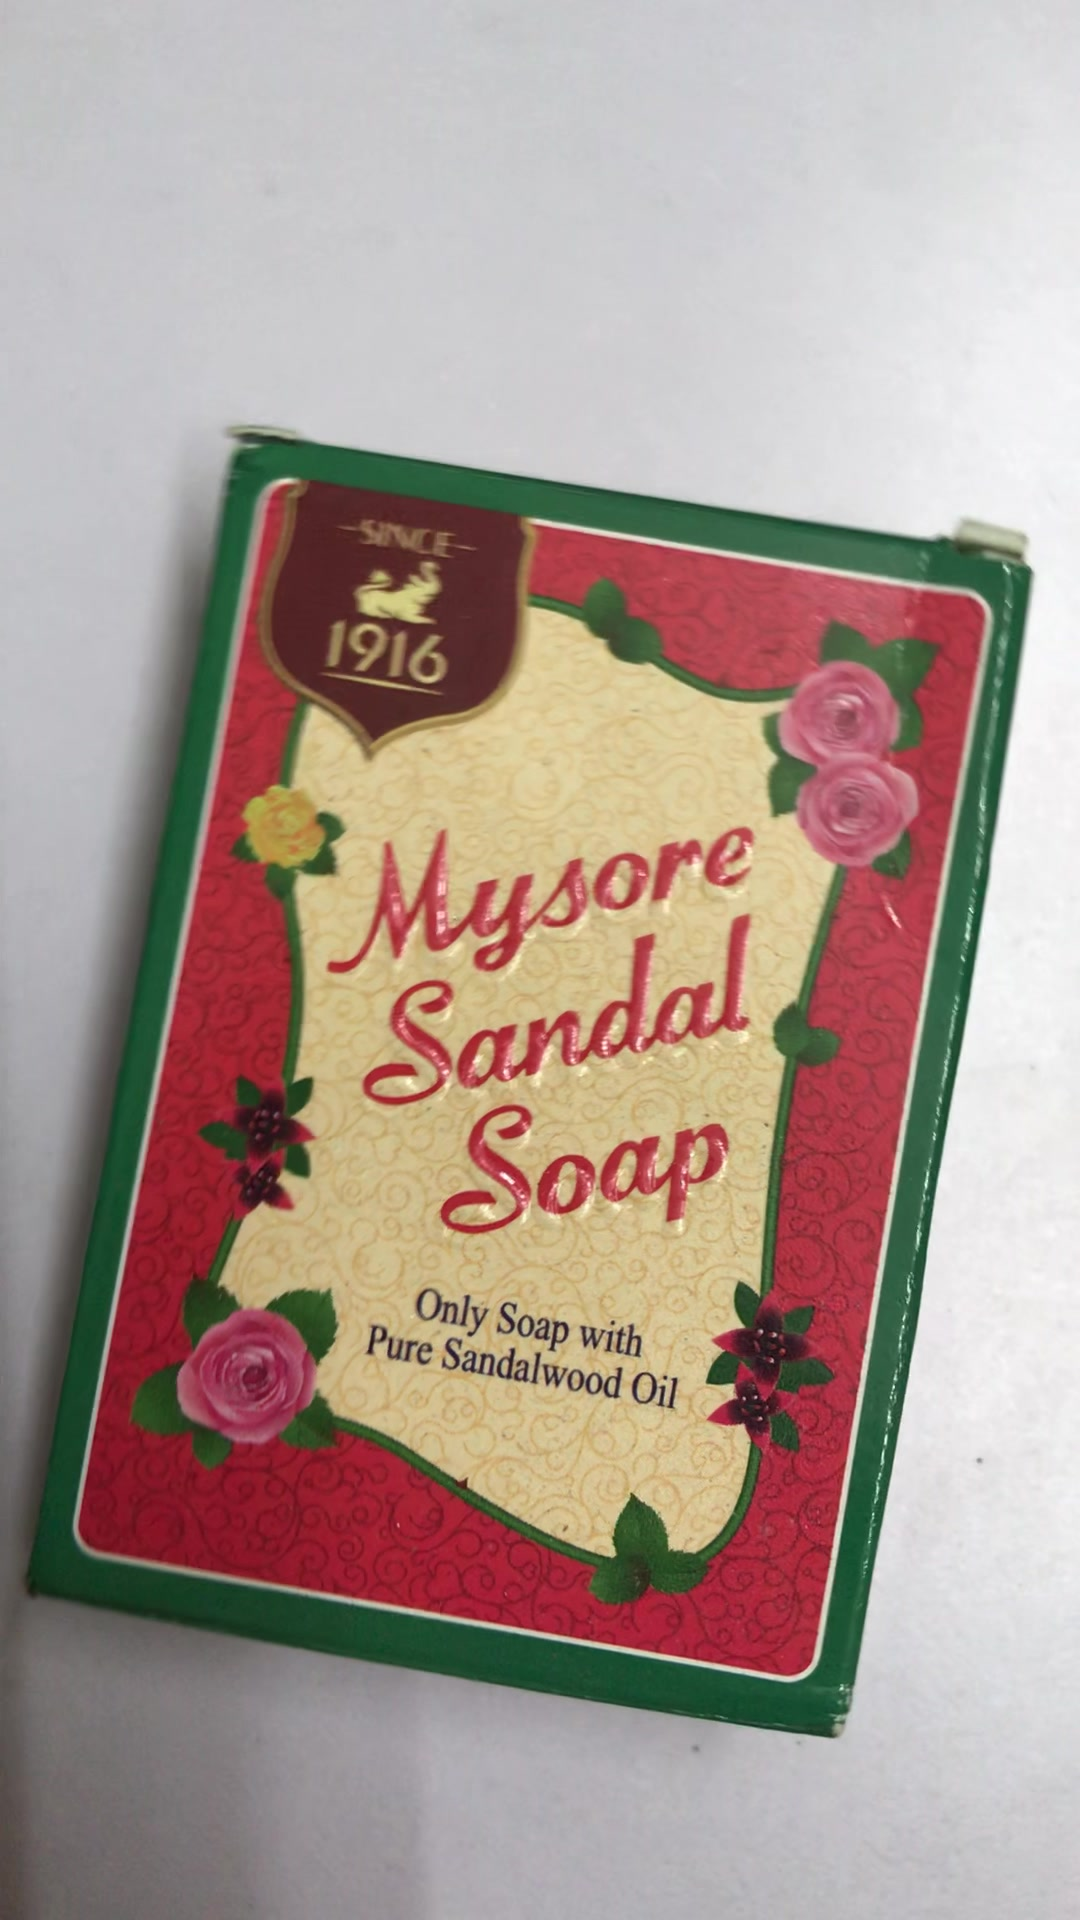mysore sandal soap: (30, 415, 1036, 1738)
